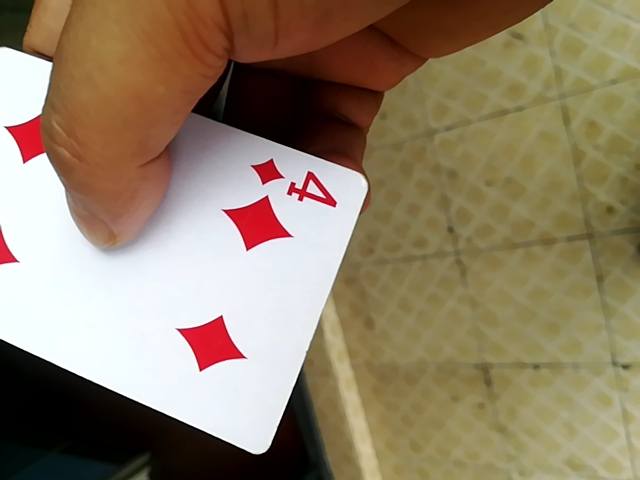fk 4: (0, 47, 378, 474)
